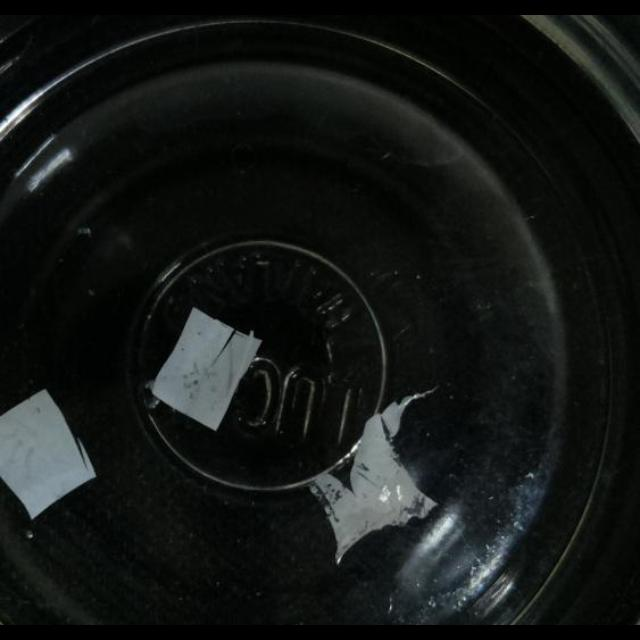Fragment: (314, 382, 442, 566), (148, 304, 262, 434), (0, 393, 94, 523)
